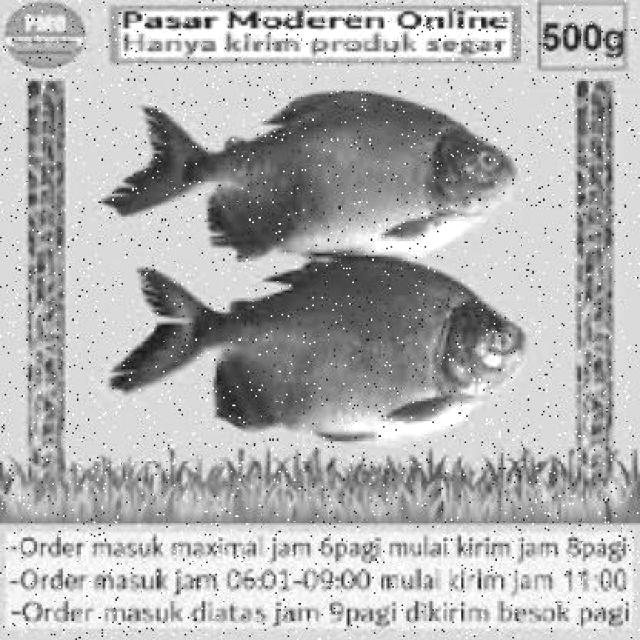ikan-pacu: (120, 262, 523, 440), (116, 82, 521, 256)
